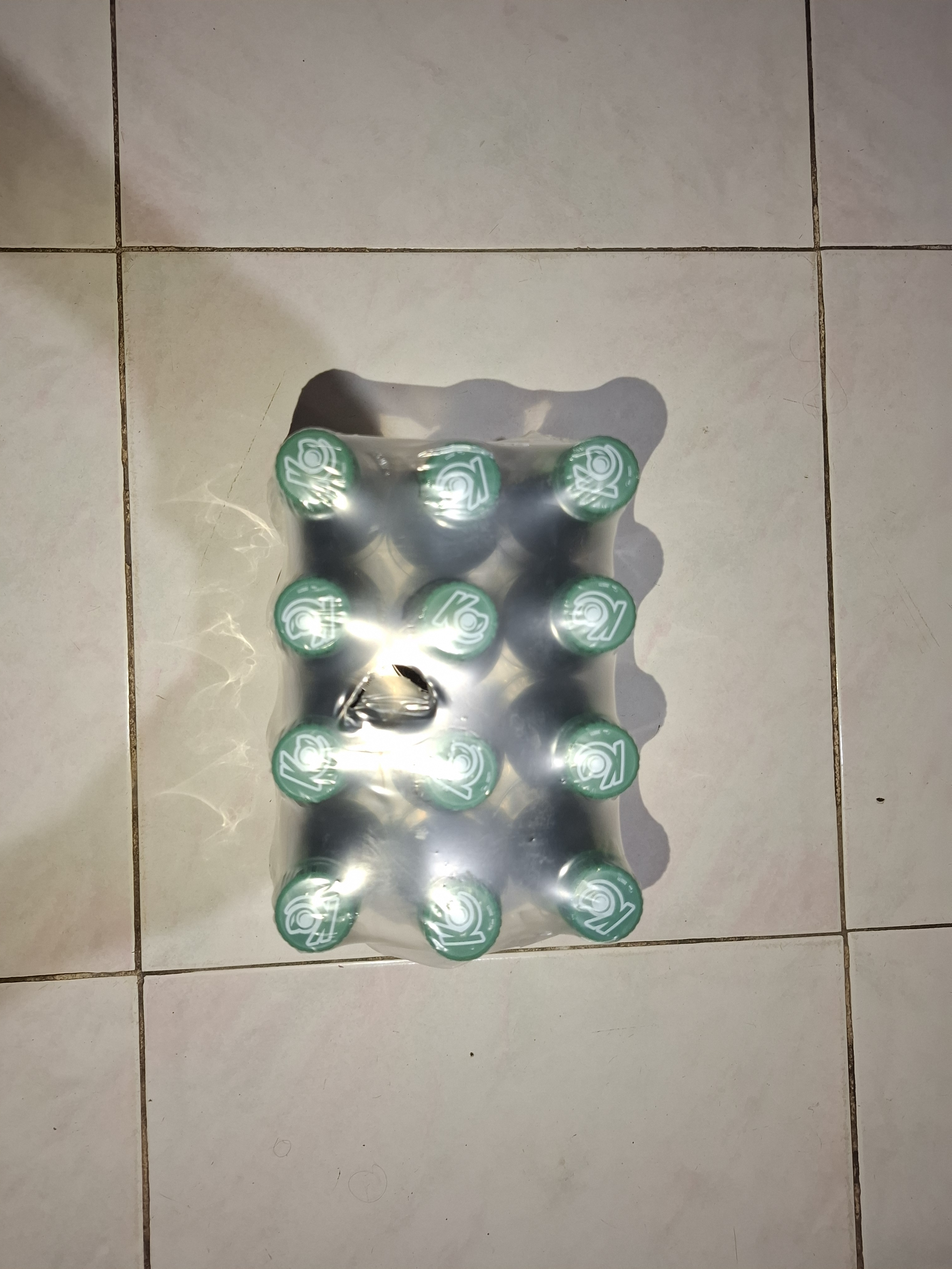Tampa Refrigerante Kuat: (411, 432, 502, 535), (414, 575, 506, 673), (551, 428, 641, 527), (551, 851, 642, 947), (411, 871, 507, 960), (266, 866, 362, 955), (272, 421, 361, 516), (411, 725, 502, 815), (551, 711, 639, 801), (551, 572, 639, 661), (271, 571, 355, 662), (268, 725, 355, 809)
